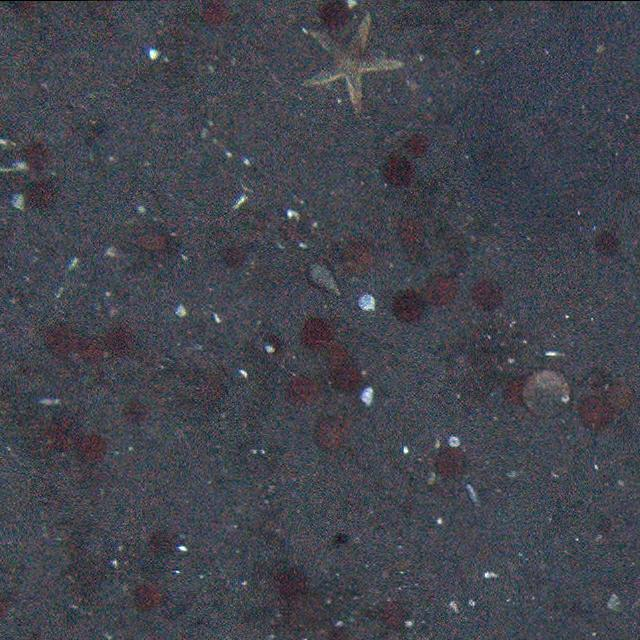whelk: (303, 254, 345, 299)
